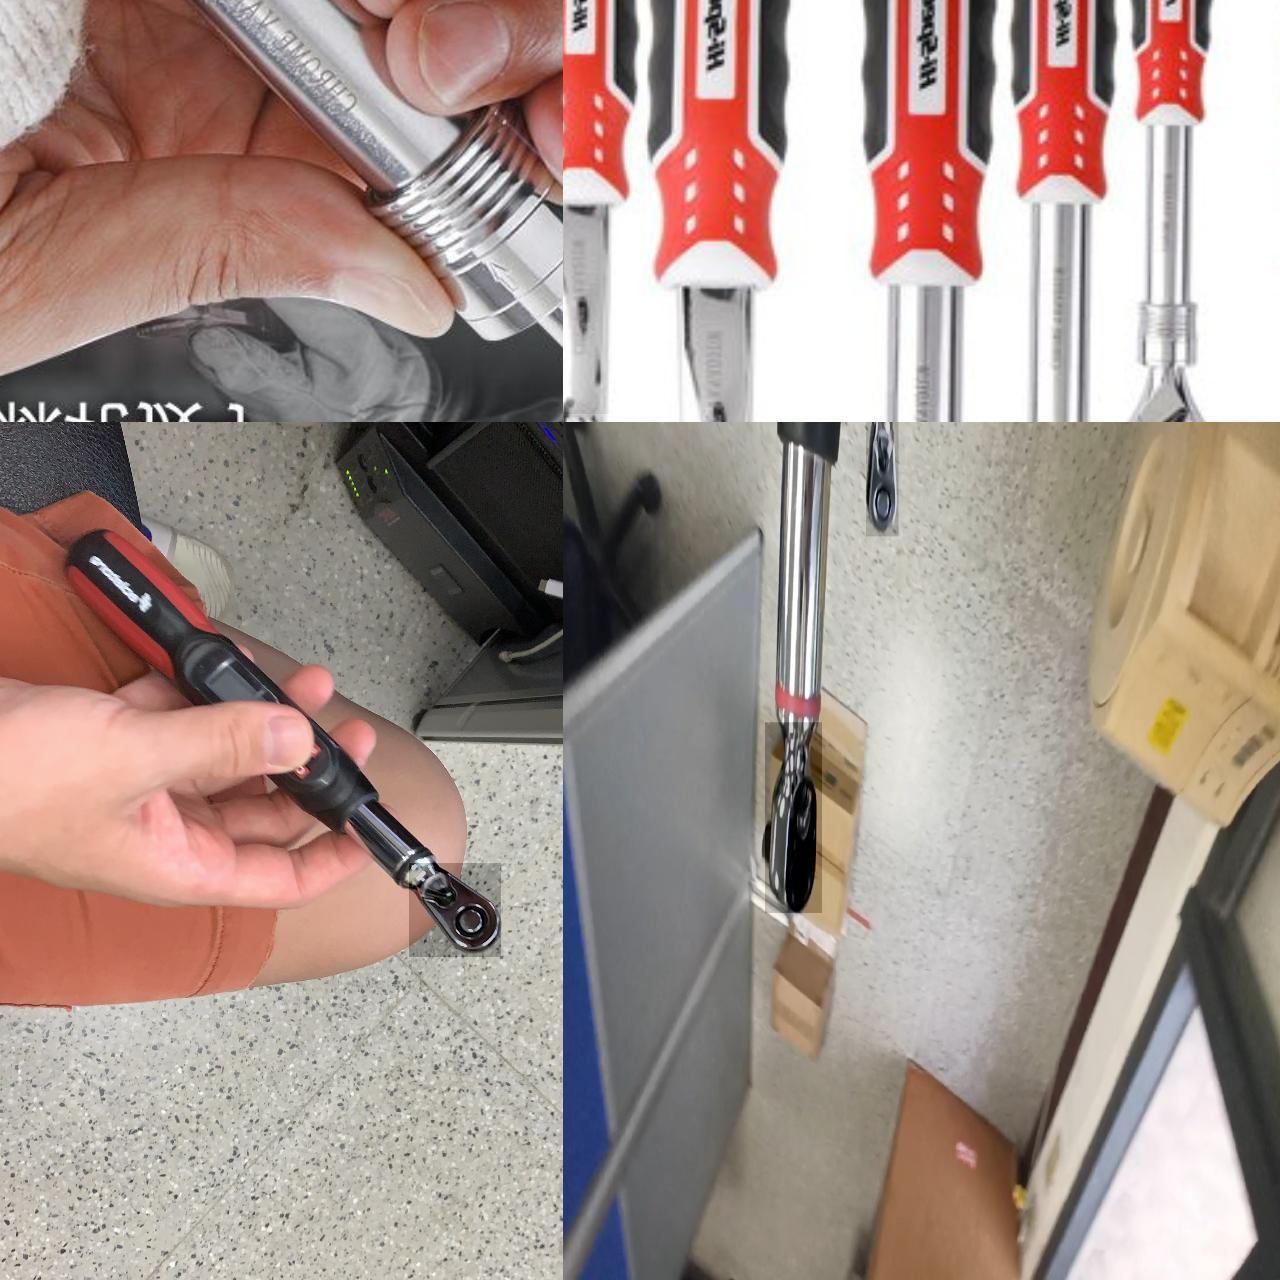Tool: (764, 722, 822, 913), (409, 863, 501, 956), (1117, 368, 1216, 422), (866, 422, 898, 536)
